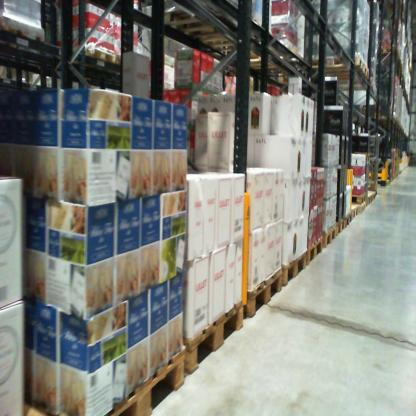pallet: (96, 343, 188, 414), (183, 289, 245, 385), (245, 263, 283, 319), (306, 53, 363, 79), (75, 35, 118, 68), (4, 14, 48, 46), (282, 247, 309, 284), (305, 235, 324, 269), (14, 405, 66, 415), (321, 222, 336, 255), (346, 189, 367, 204), (332, 216, 346, 238), (347, 205, 358, 220), (344, 210, 353, 226), (356, 203, 366, 212)
